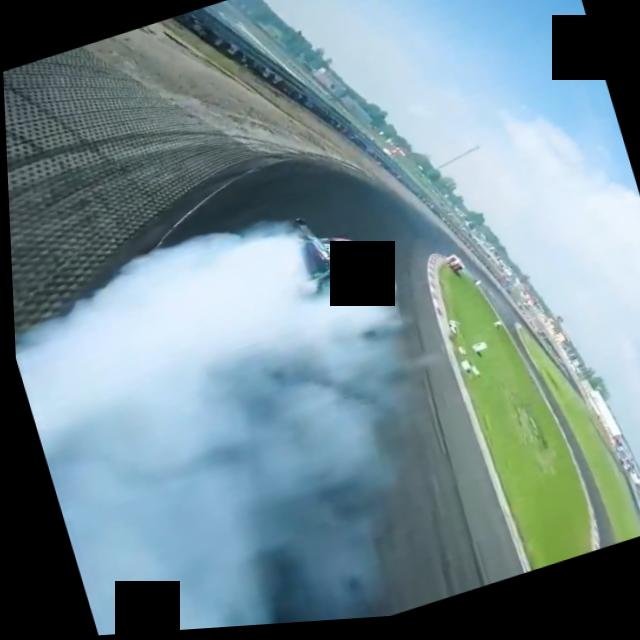Vehicle: (294, 218, 374, 289)
